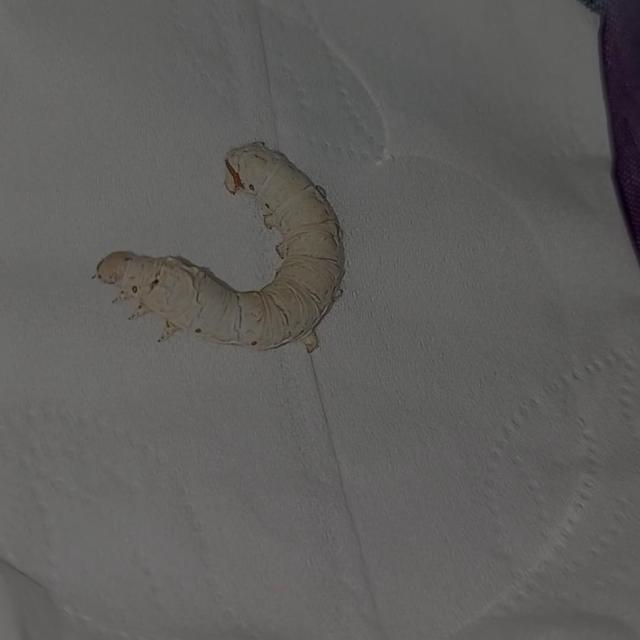Healthy: (84, 130, 363, 372)
